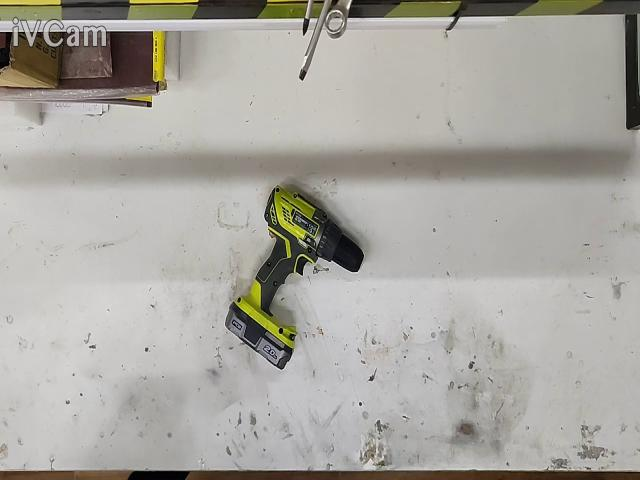Drill: (225, 185, 364, 368)
Wrench: (325, 0, 351, 38)
